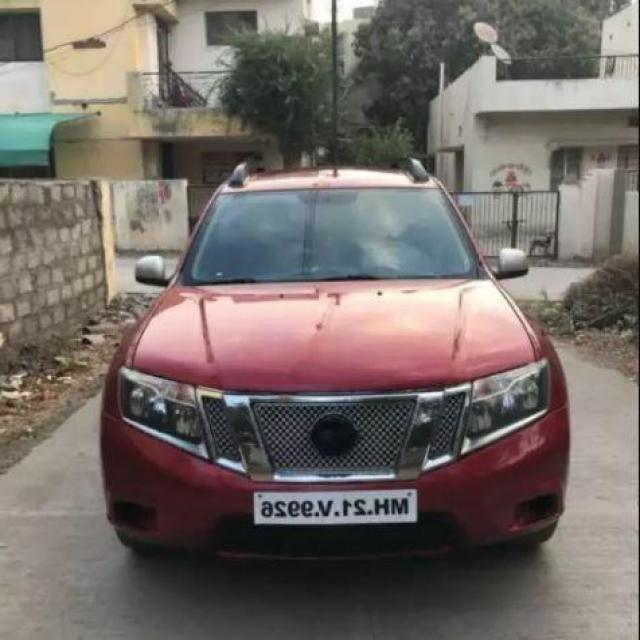number-plate: (246, 473, 426, 545)
